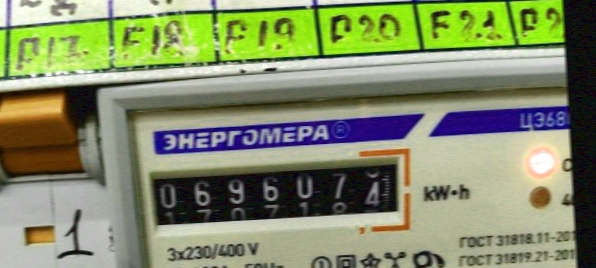0: (158, 181, 178, 211), (293, 172, 314, 200)
4: (362, 181, 381, 210)
6: (260, 174, 280, 203), (192, 180, 211, 208)
7: (328, 171, 349, 202)
9: (225, 178, 245, 207)
screen: (135, 145, 419, 247)
